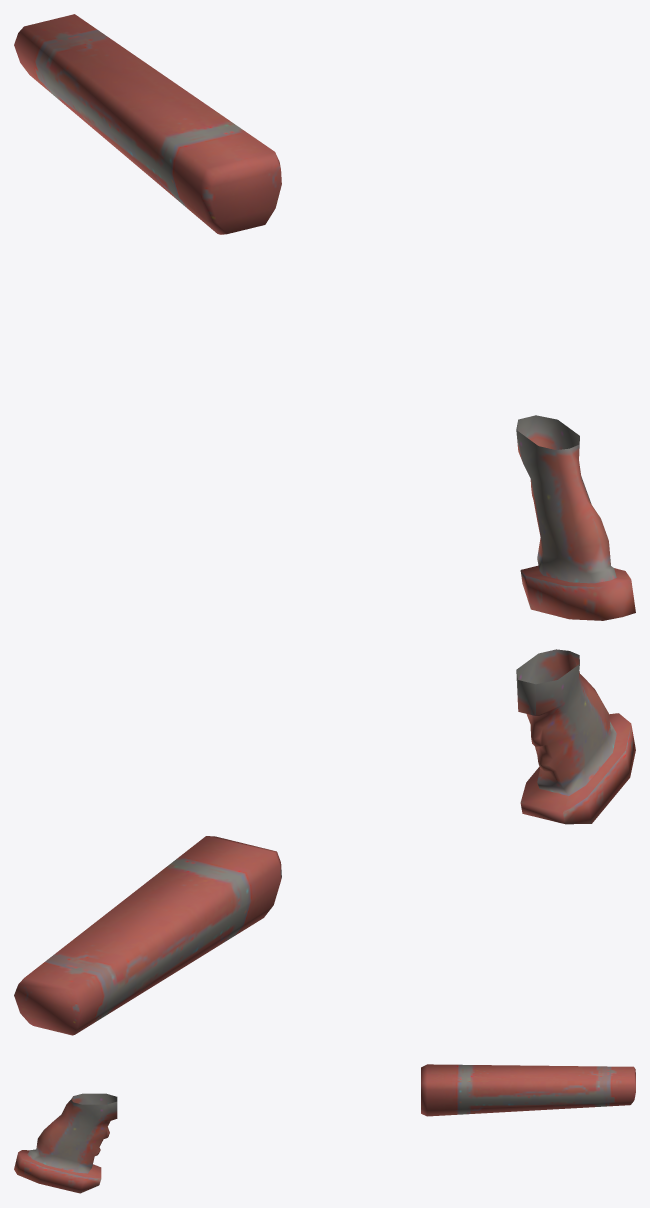
Rendered from grip4.obj.
The picture shows the model from 3 angles, top to bottom: view 1: azimuth 30°, elevation 25°; view 2: azimuth 150°, elevation 25°; view 3: azimuth 270°, elevation 25°; orthographic projection. The views are drawn at different scales.
Visible parts, largest first — view 1: grip4; view 2: grip4; view 3: grip4.
Boxes of the visible parts, box(x1,y1,x2,y2) form: grip4: box(14, 14, 635, 620); grip4: box(14, 649, 635, 1035); grip4: box(14, 1064, 635, 1193).
Size of the model in its own units: 5.82 by 14.35 by 72.23.
